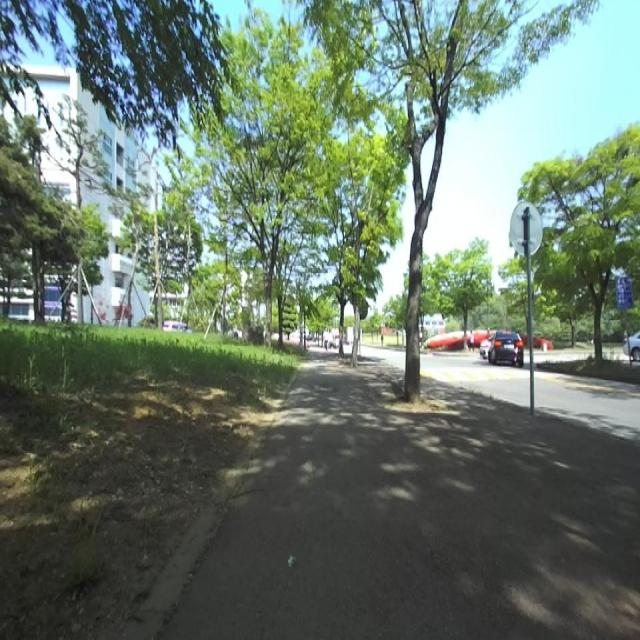sidewalk: (162, 353, 640, 639)
